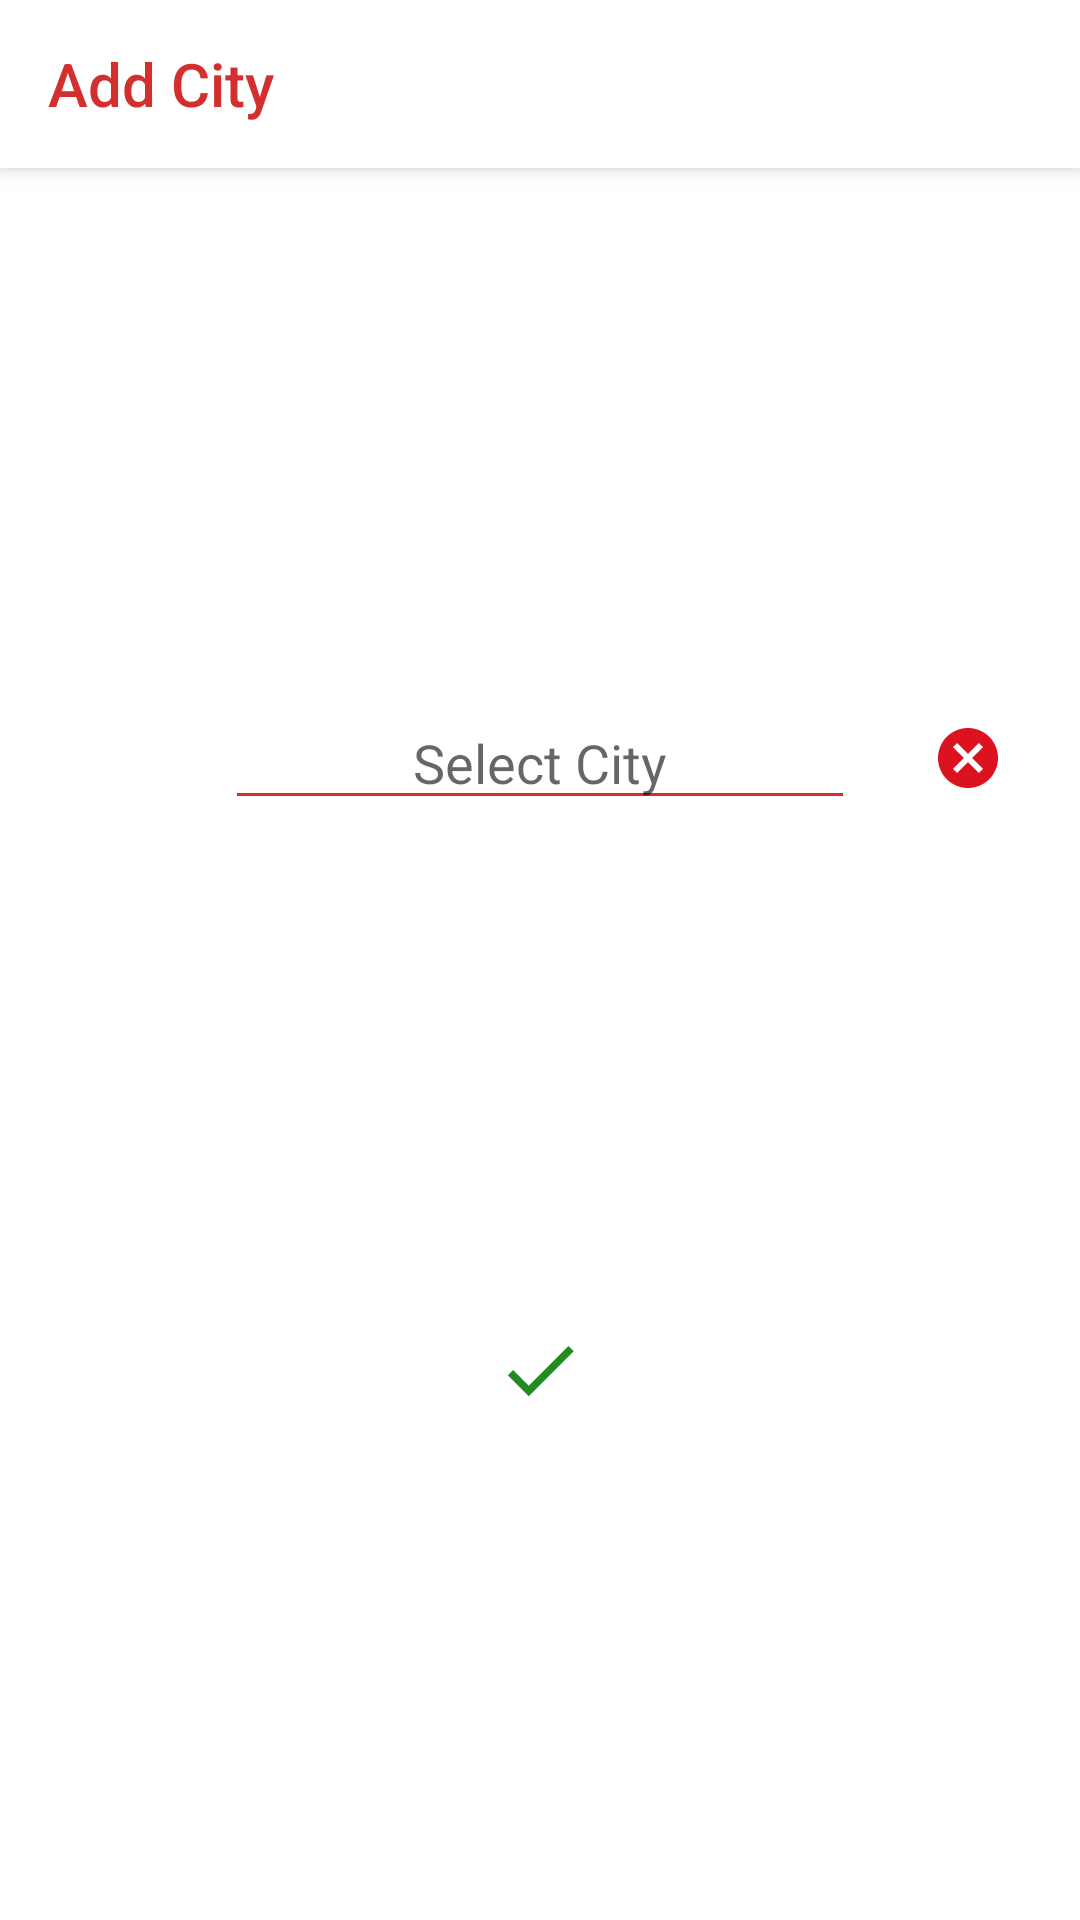

Icons on this 1080w x 1920h Android screen, each with the point to tap as point (x, y):
cancel: point (968, 758)
check: point (541, 1371)
